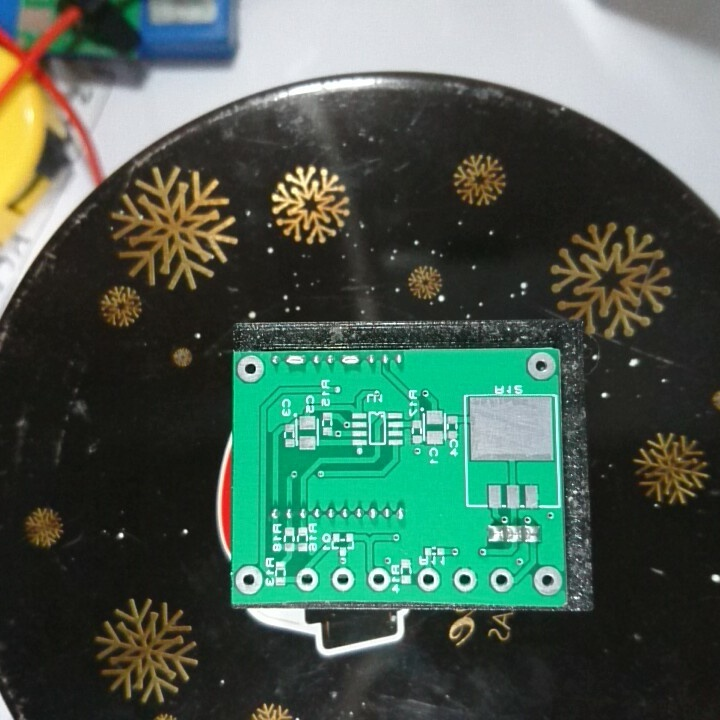F: (522, 348, 557, 383), (532, 562, 563, 599), (234, 562, 265, 599), (235, 353, 268, 386), (414, 564, 444, 597), (450, 565, 480, 595), (329, 563, 358, 593), (293, 565, 322, 593), (365, 564, 391, 595), (489, 566, 514, 594)
P: (337, 350, 363, 370), (282, 352, 308, 370)
